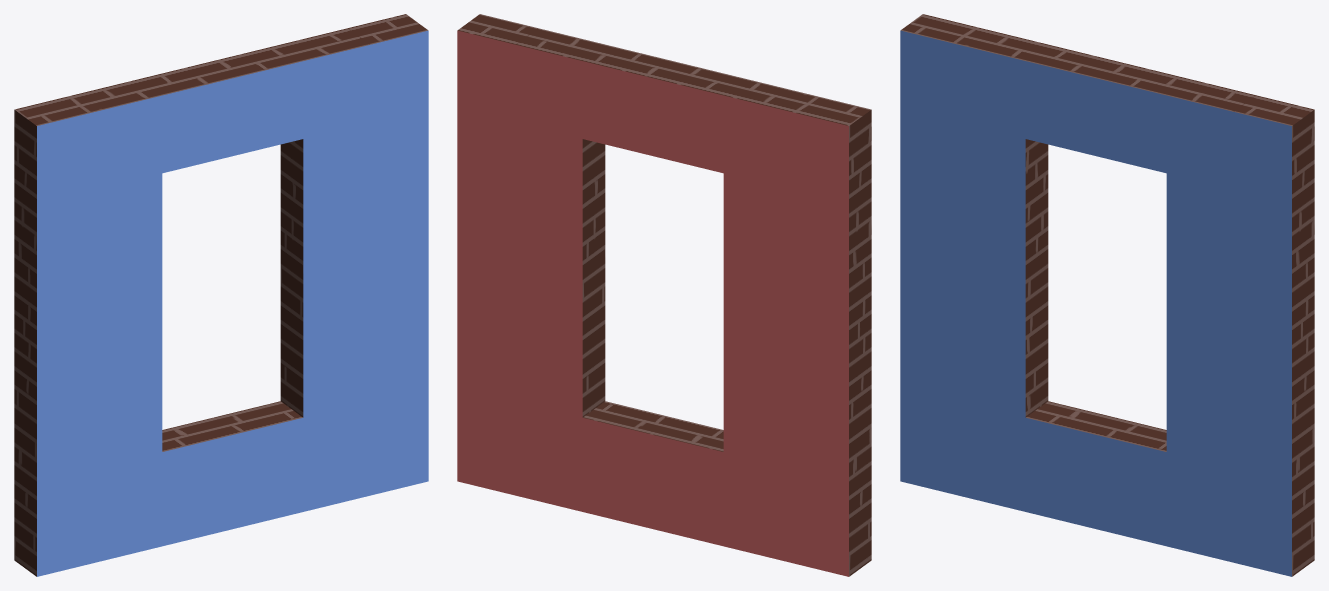
The model's file is wall3_5x5.5.FBX.
3 renders of one model, left to right at view 1: azimuth 30°, elevation 25°; view 2: azimuth 150°, elevation 25°; view 3: azimuth 330°, elevation 25°, orthographic.
Visible parts, largest first — view 1: wall3_5x5.5; view 2: wall3_5x5.5; view 3: wall3_5x5.5.
Part boxes in pixels (x1=…): wall3_5x5.5: x1=14, y1=14, x2=428, y2=576; wall3_5x5.5: x1=457, y1=14, x2=871, y2=576; wall3_5x5.5: x1=900, y1=14, x2=1314, y2=576.
Size of the model in its own units: 500 by 550 by 50.
3 materials, 1 textured.
